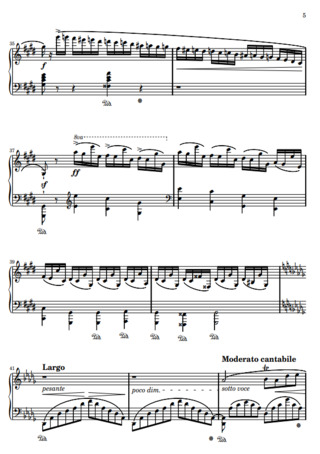Partitura: (4, 17, 311, 446)
